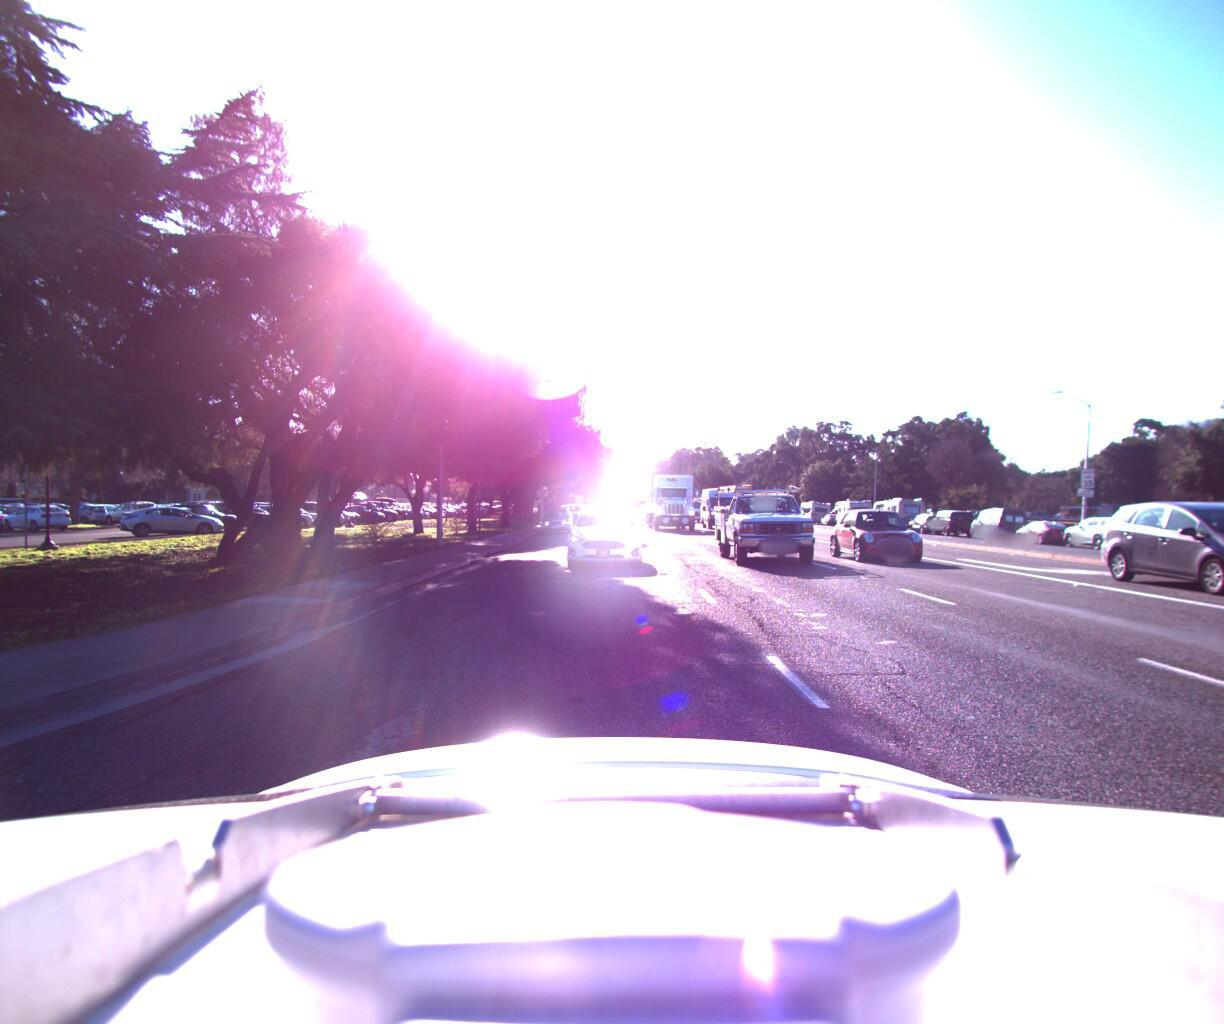car: (1122, 491, 1224, 608), (714, 478, 825, 569), (836, 503, 940, 563), (564, 501, 644, 570), (1059, 510, 1145, 546), (967, 504, 1030, 538), (589, 501, 635, 544), (1012, 515, 1077, 542), (696, 485, 736, 528), (927, 507, 976, 535), (538, 504, 575, 531), (905, 510, 948, 531)
other_vehicle: (865, 494, 934, 529)
truck: (641, 468, 701, 530)
